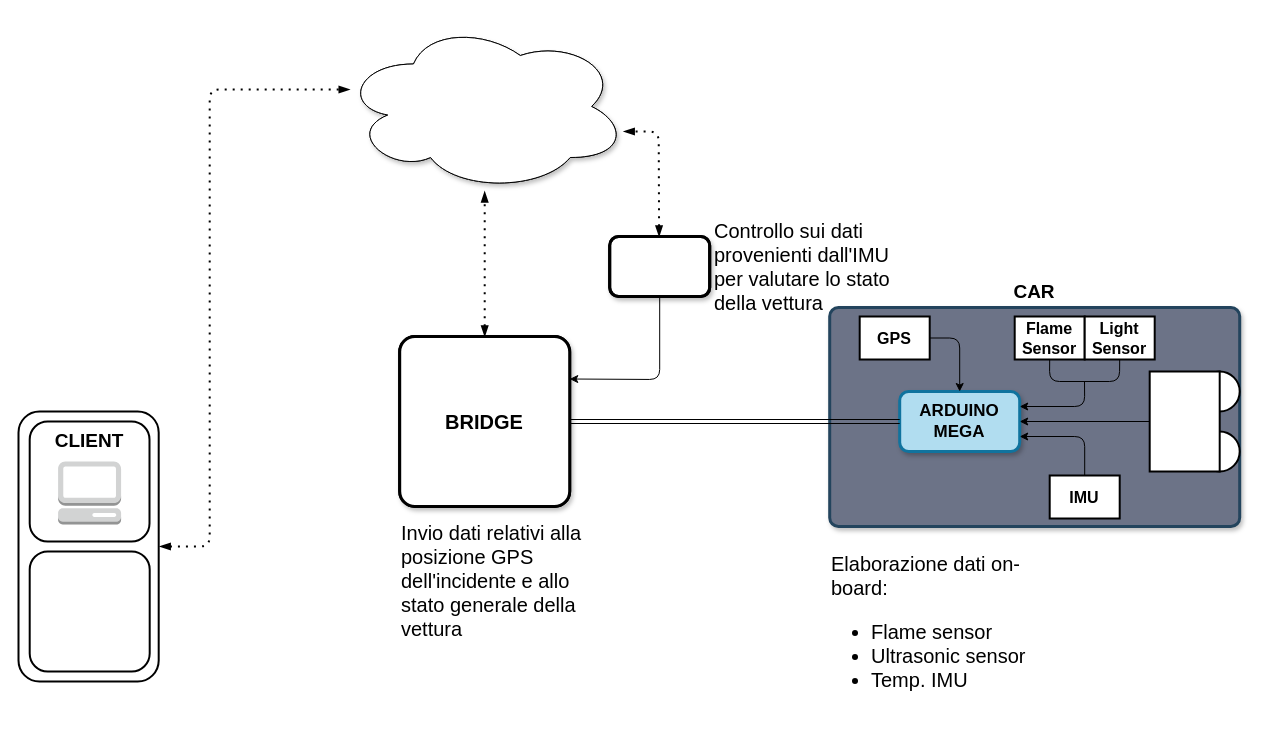
Some shapes in this 1264 by 729 pixel diagram are drawn without their labels. The centre of each missing label's shape, as x and y in pixels:
IA Controller: pixel 659 266
Real-time traffic light handler: pixel 89 611
Ultra Sonic Sensor: pixel 1184 421
